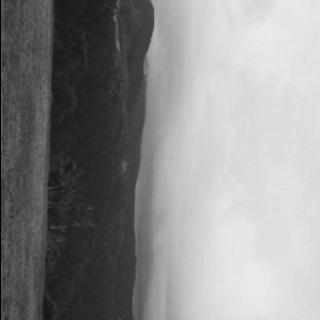Cumulus: (123, 0, 320, 320)
